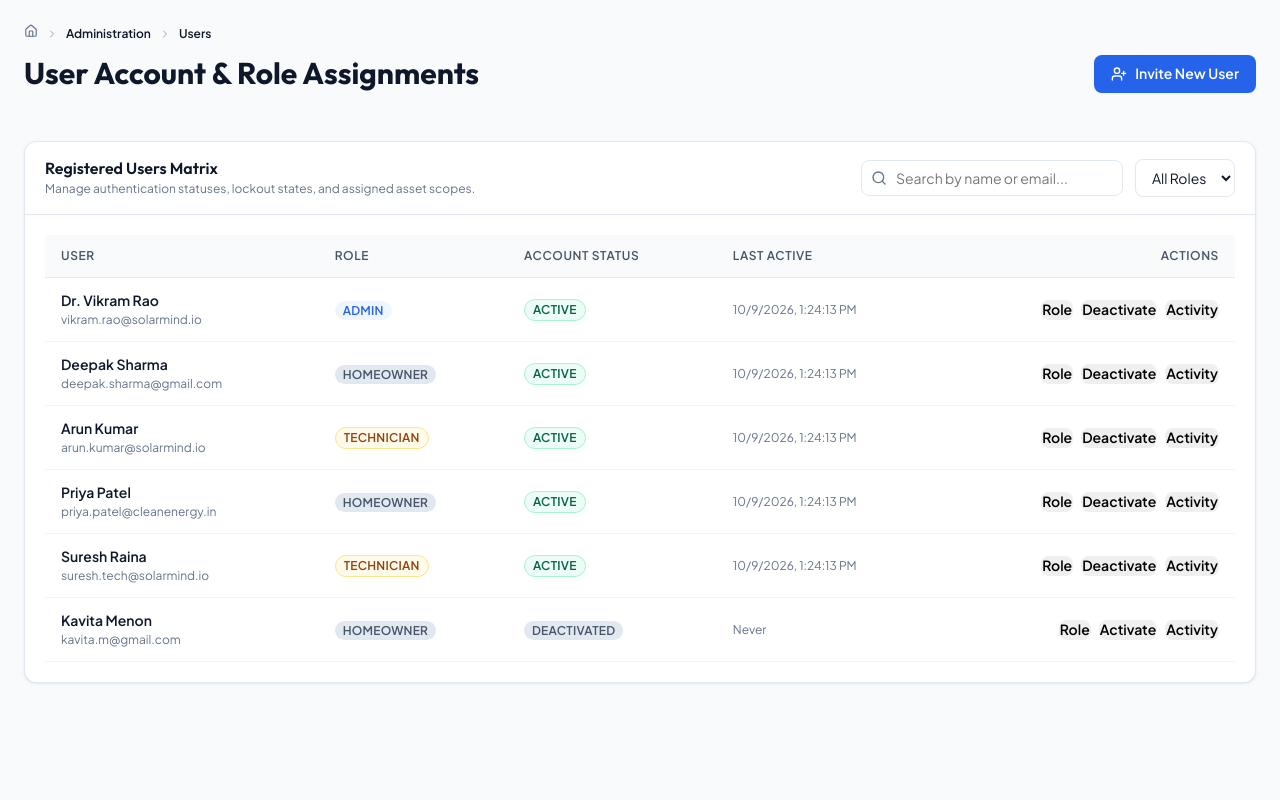
Test case: Admin Management Module - Frontend Tests › AdminUsersPage › opens account activity modal and shows event records
Expected: the text "Dr. Vikram Rao" is shown, [61,291,159,309]
Click the button "Activity" in the row of "Dr. Vikram Rao" at (1192,310), box [1165,300,1219,320]
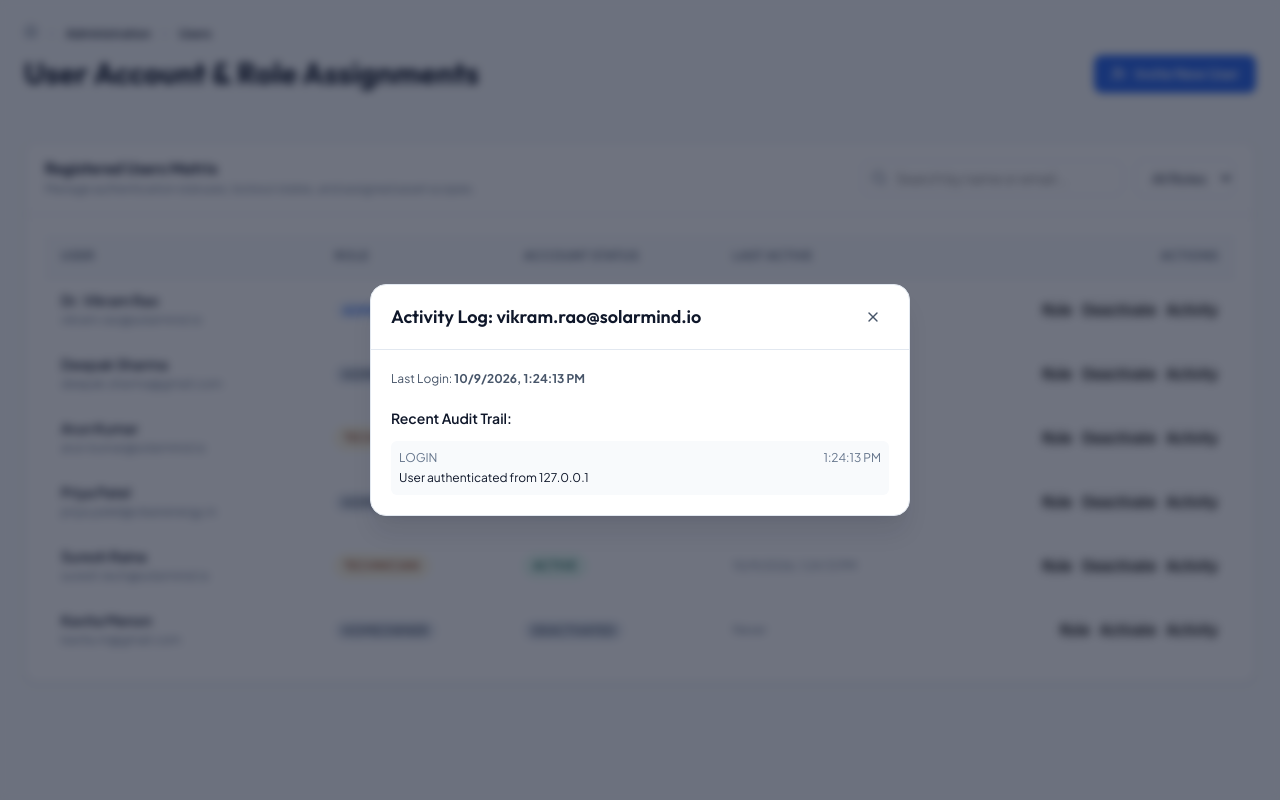
Now the text "Recent Audit Trail:" is shown, box [391,409,512,427]
